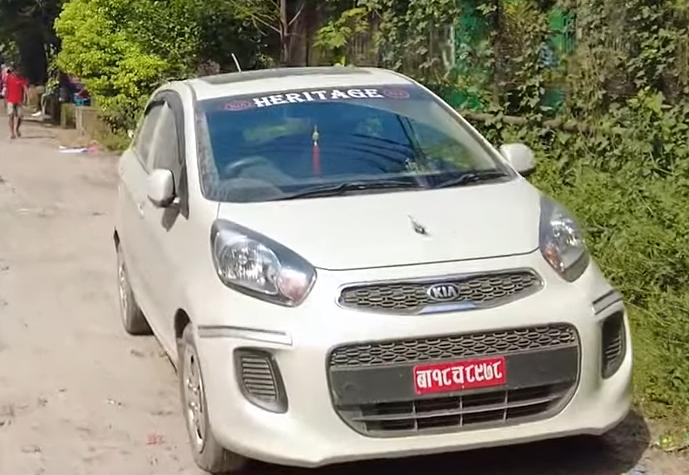car: (115, 70, 642, 460)
